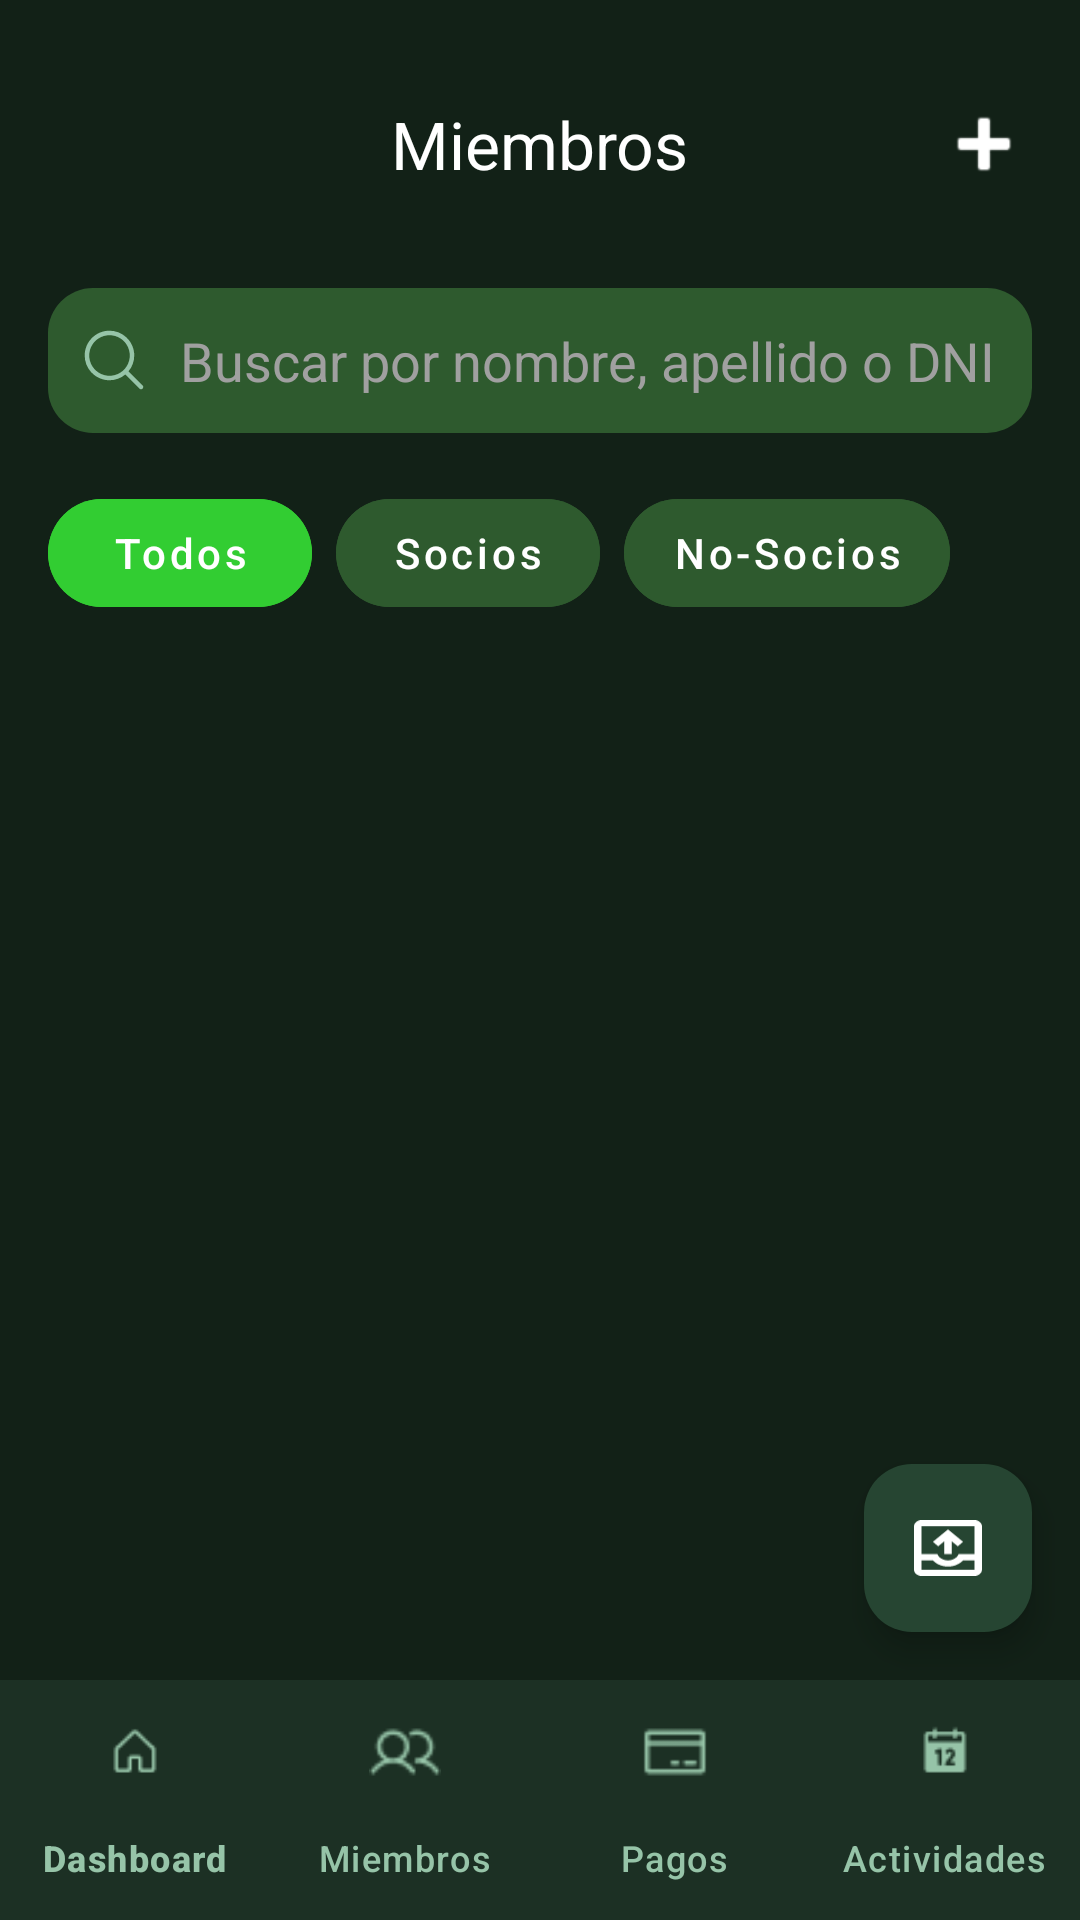

Locate icon controls on the screen. Image size 1080×1920, boxes as (x1, y1, x2, y2).
add: (957, 117, 1011, 171)
upload: (864, 1464, 1032, 1632)
